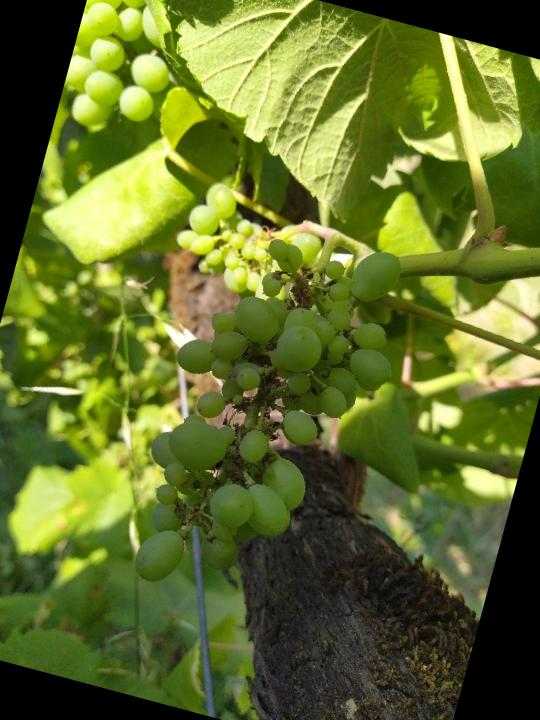grape: (111, 179, 431, 634), (162, 166, 291, 301)
